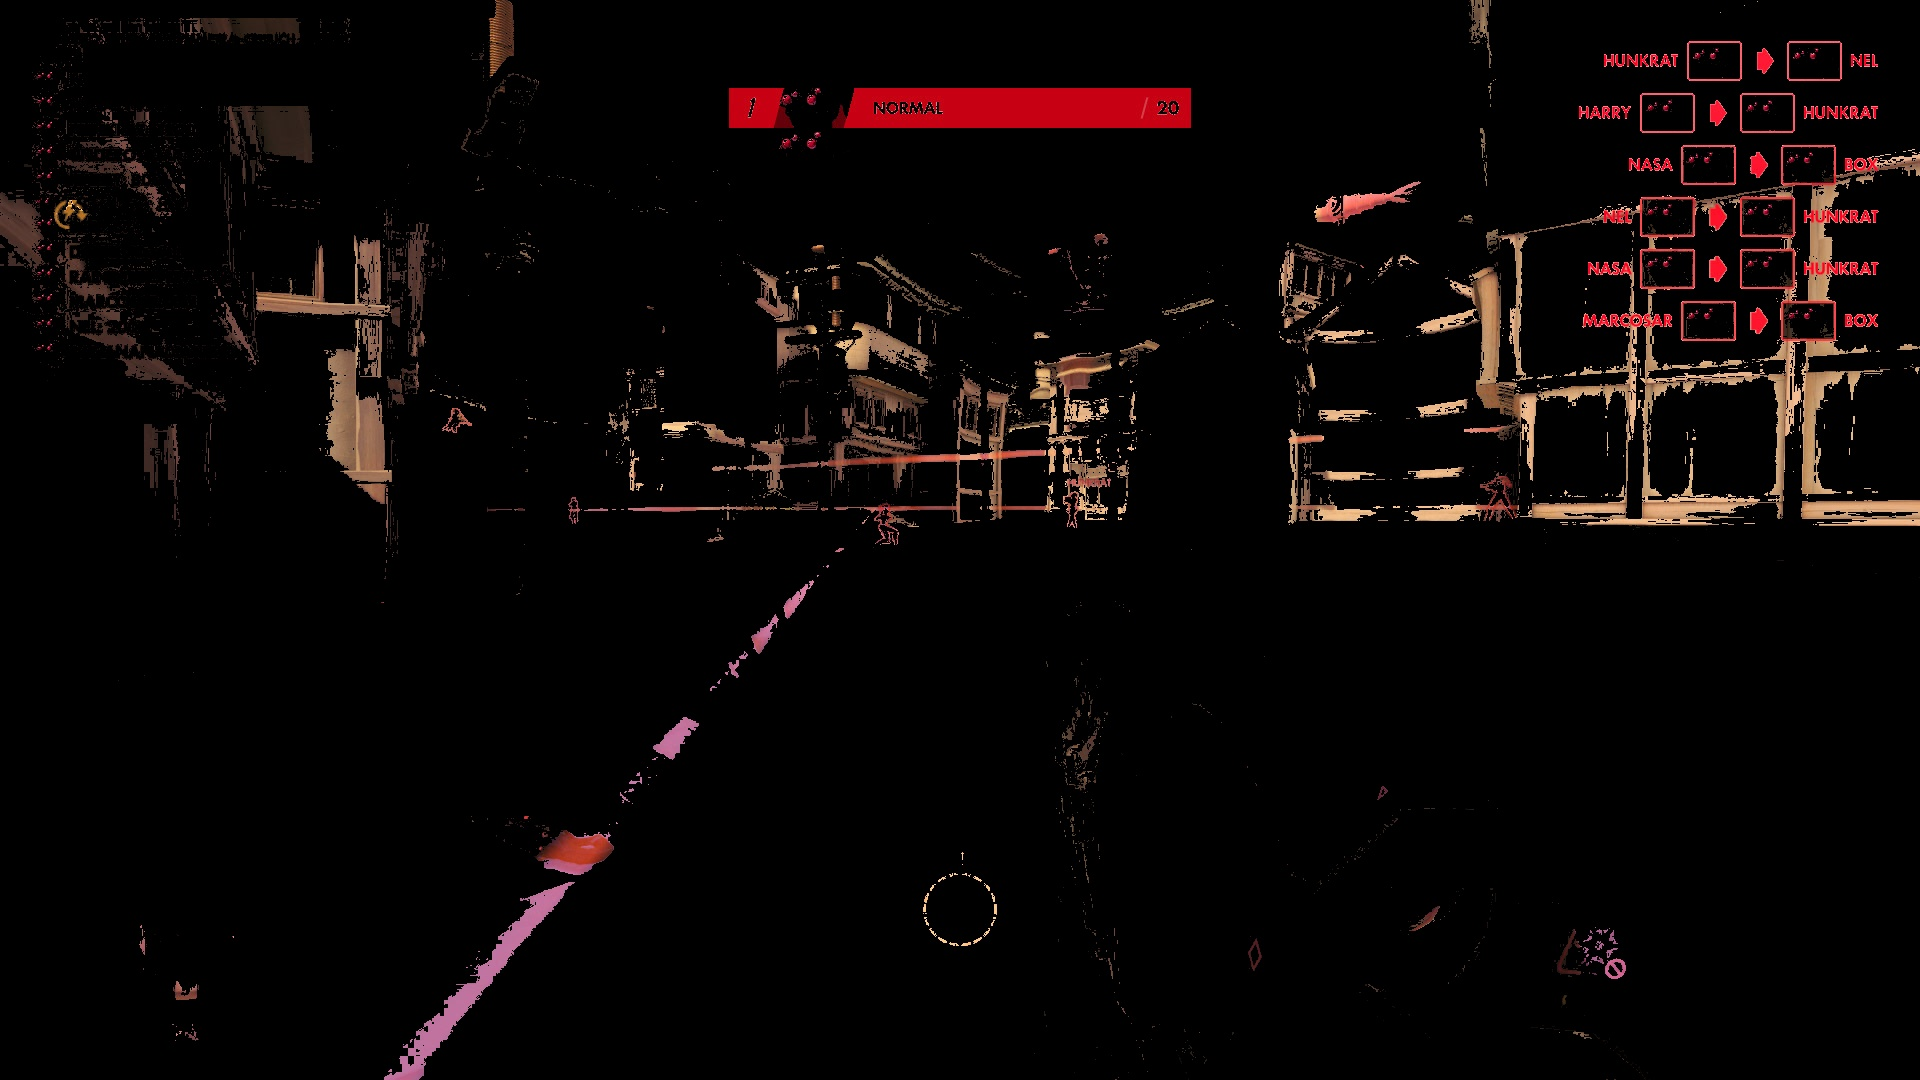widowmaker: (869, 498, 907, 555), (1484, 471, 1519, 521), (1058, 489, 1087, 534), (444, 406, 468, 434), (566, 495, 584, 527)
